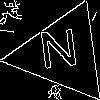N: (37, 29, 82, 79)
